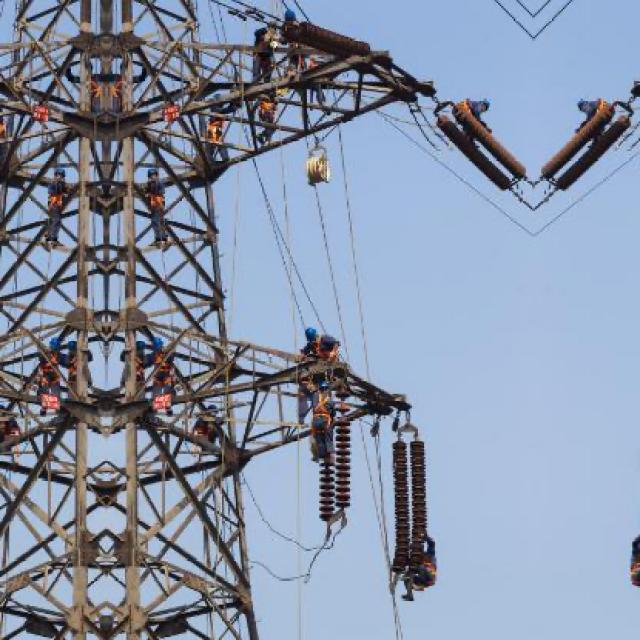helmet: (302, 326, 319, 346), (315, 378, 330, 397), (282, 9, 299, 25), (572, 99, 591, 112), (44, 336, 59, 352), (145, 166, 159, 183), (52, 166, 66, 183), (477, 99, 495, 112), (134, 338, 147, 356), (66, 338, 79, 356), (152, 336, 166, 352)
